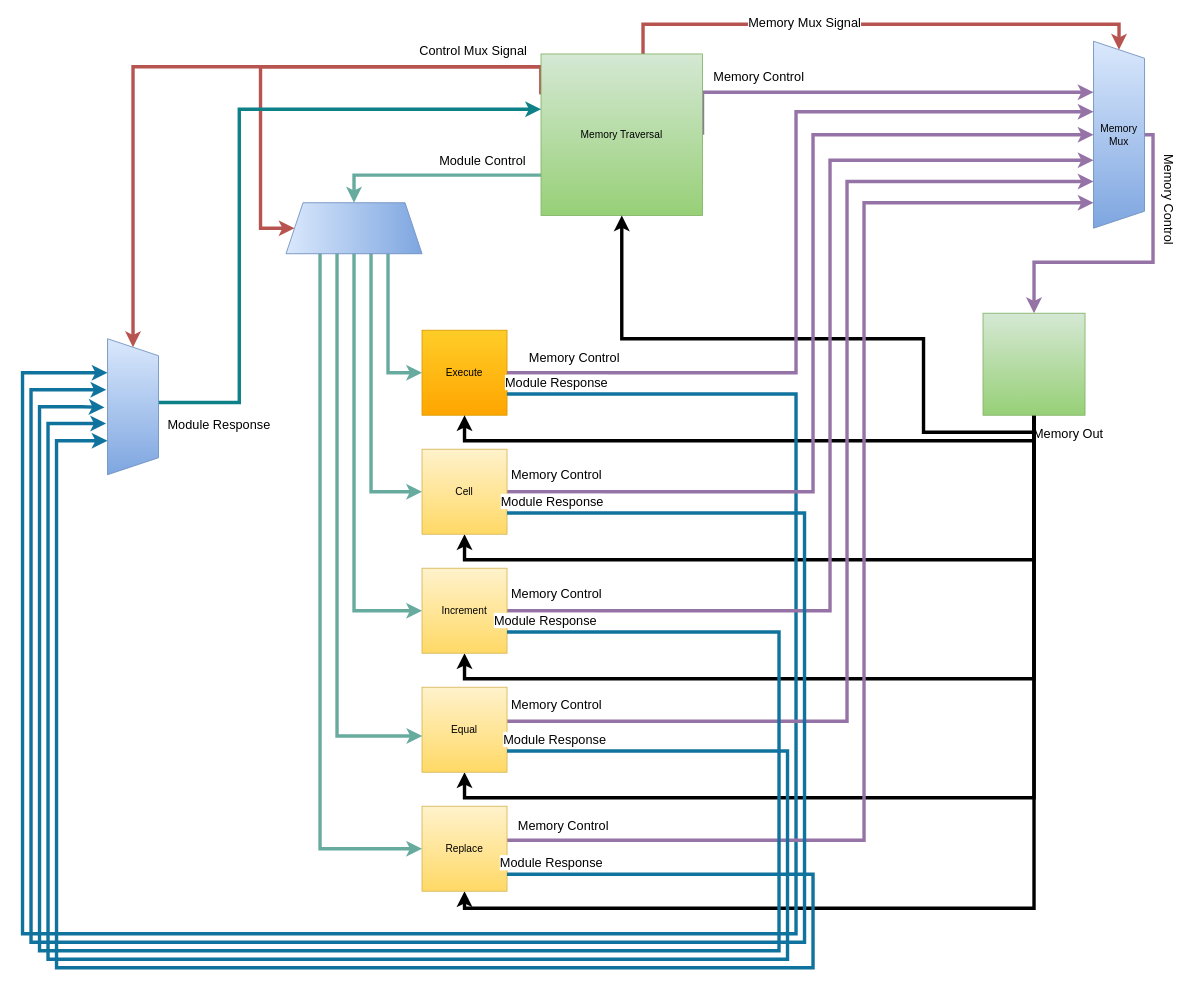
Some shapes in this 1192 by 991 pixel diagram are drawn without their labels. The shapes that lost their labels are listed below. From the top down, each one's centre as x and y in pixels, then its label:
the point at 353,228: Control Demux
the point at 1033,363: Memory Unit
the point at 133,406: Response Mux
